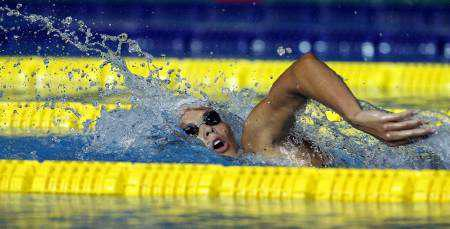swimmer: (181, 50, 433, 162)
